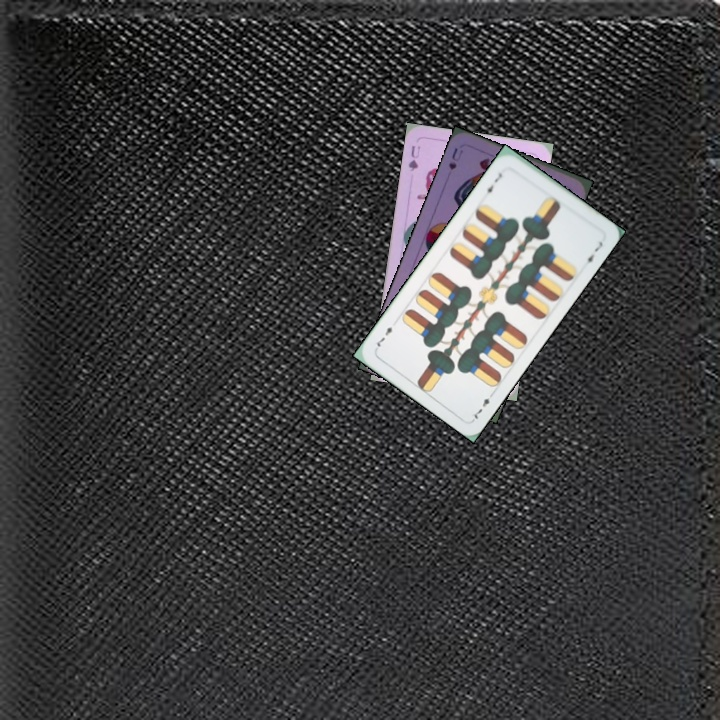E7: (469, 387, 497, 423), (480, 169, 505, 198)
GU: (404, 141, 423, 174)
SU: (444, 144, 466, 172)
